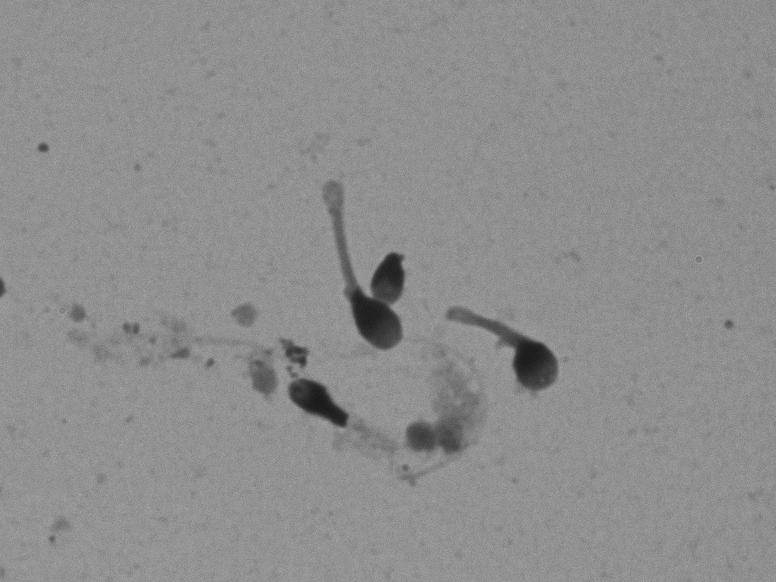Abnormal: (240, 361, 427, 493), (438, 273, 592, 426), (312, 148, 425, 355)
